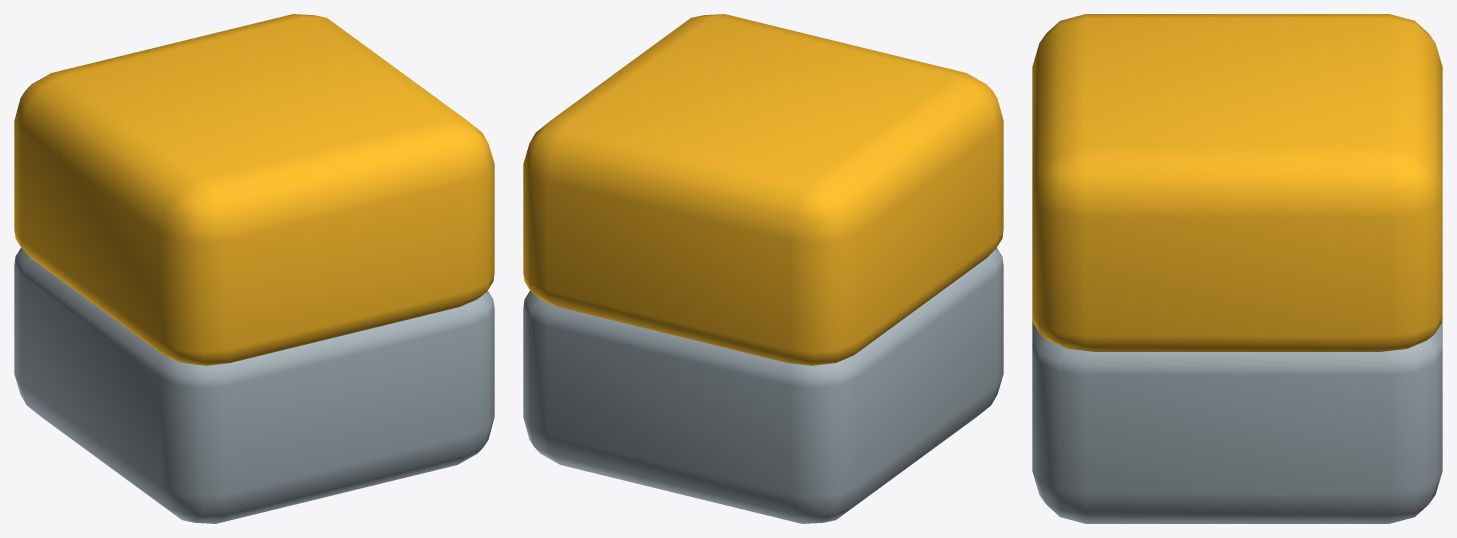
Rendered from tileSmall_teamYellow-col.glb.
The picture shows the model from 3 angles, left to right: view 1: azimuth 30°, elevation 25°; view 2: azimuth 150°, elevation 25°; view 3: azimuth 270°, elevation 25°; orthographic projection. The views are drawn at different scales.
Visible parts, largest first — view 1: tileSmall_teamYellow-col; view 2: tileSmall_teamYellow-col; view 3: tileSmall_teamYellow-col.
Boxes of the visible parts, bbox=[...] form: tileSmall_teamYellow-col: bbox=[14, 14, 494, 523]; tileSmall_teamYellow-col: bbox=[523, 14, 1003, 523]; tileSmall_teamYellow-col: bbox=[1032, 14, 1442, 523].
Bounding box in the file's own units: 1 × 1 × 1.
